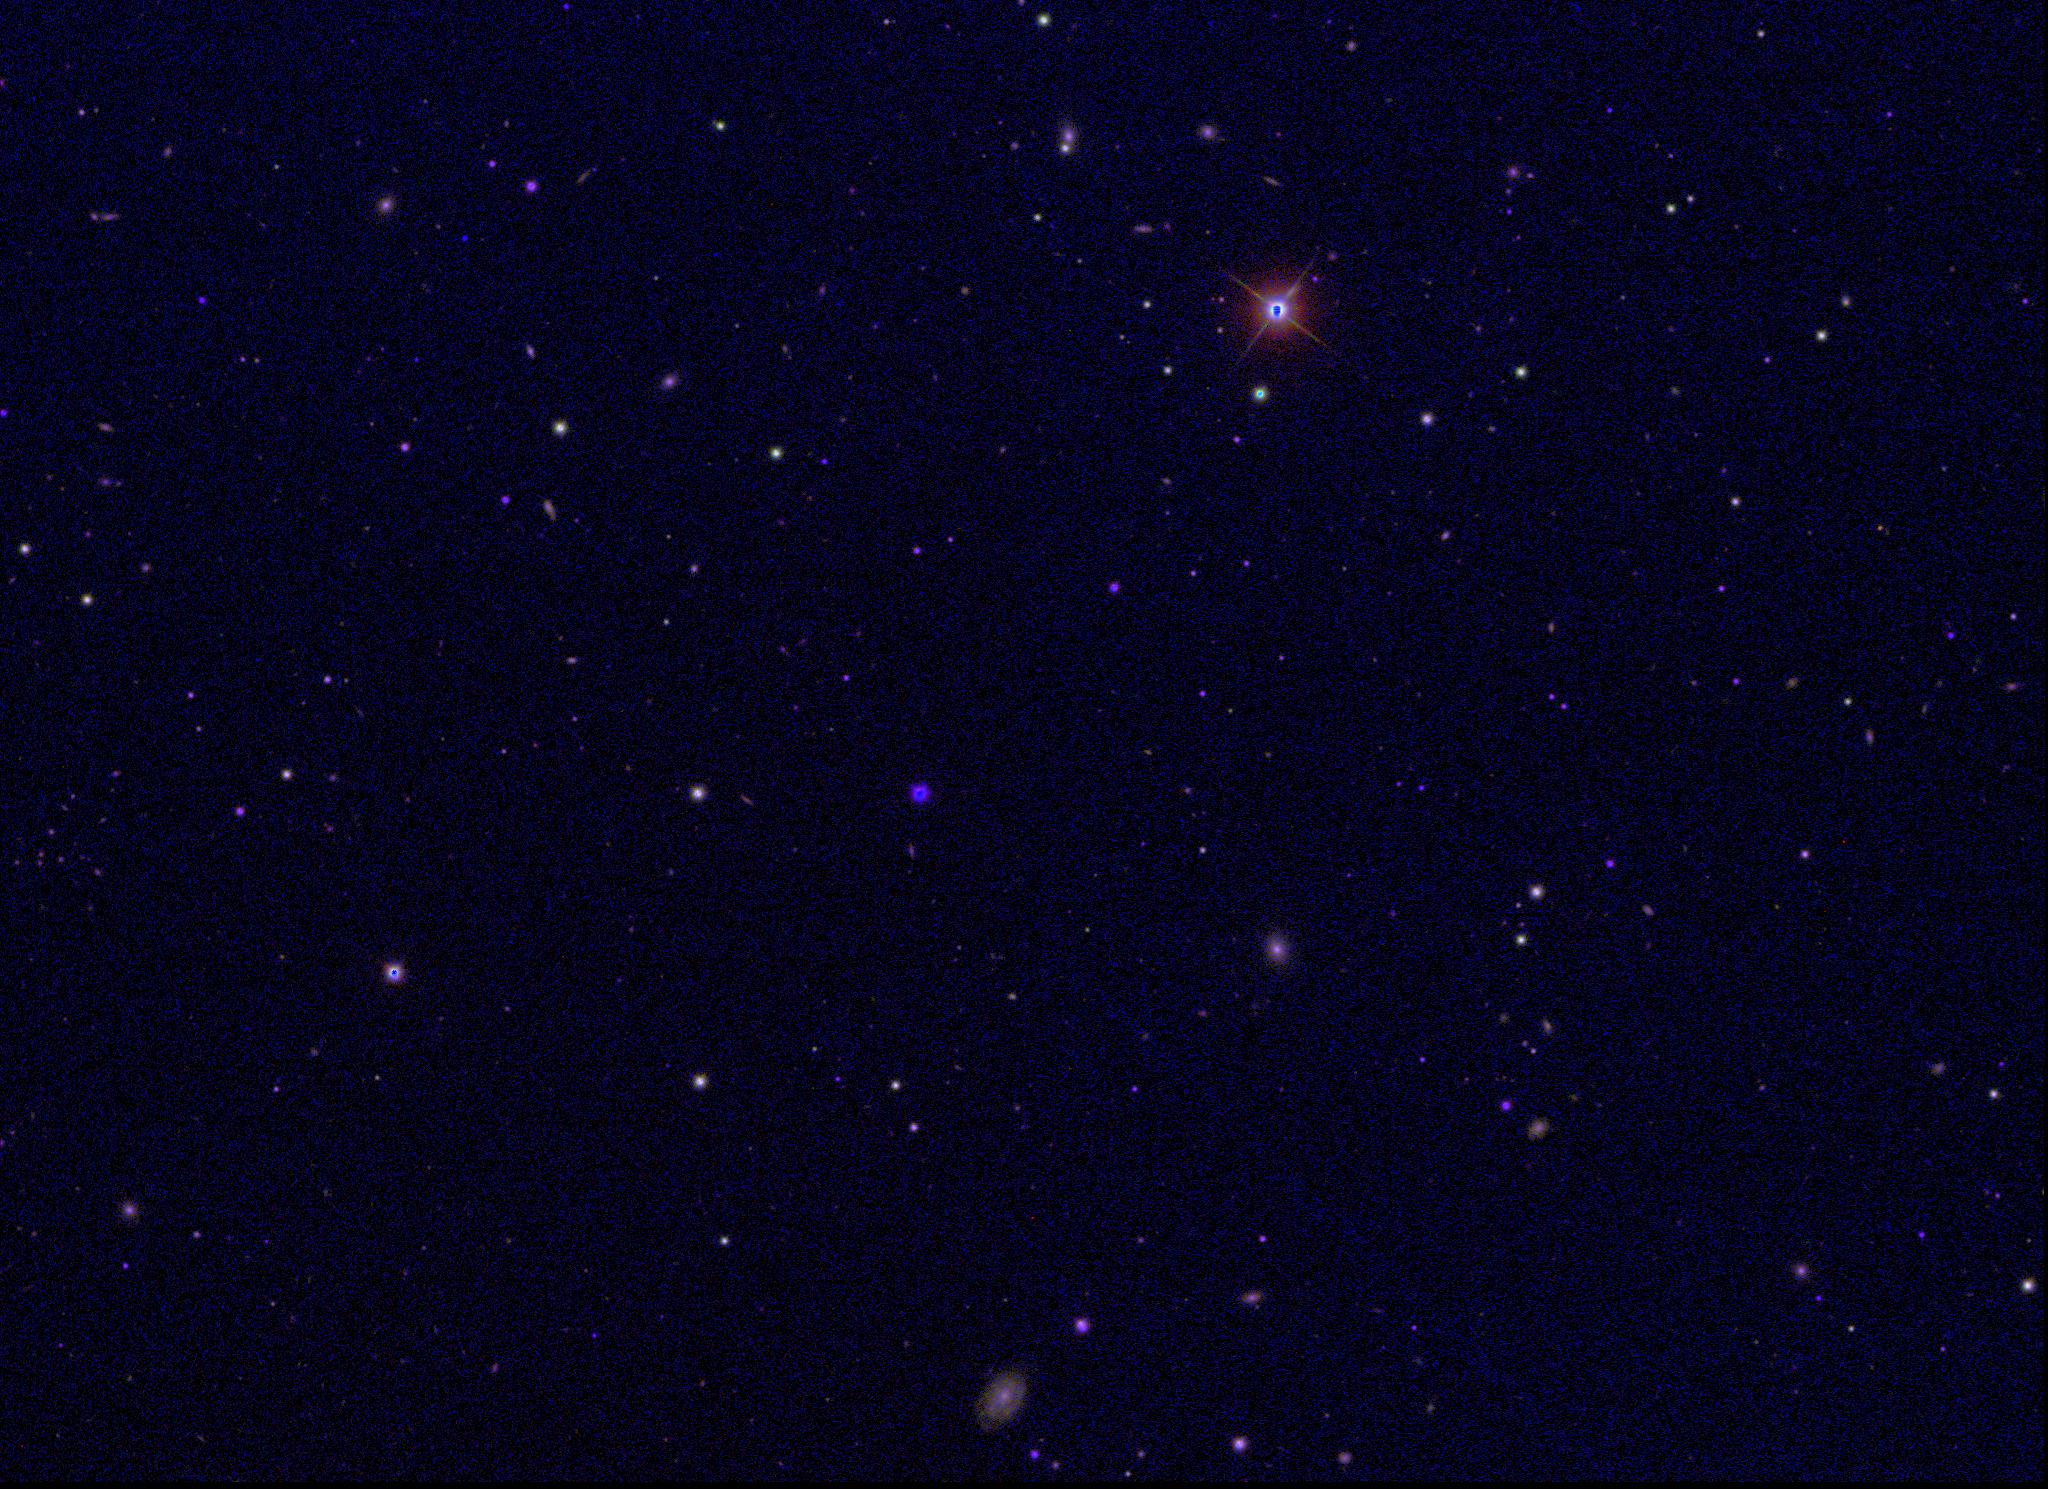L: (458, 231, 472, 245)
